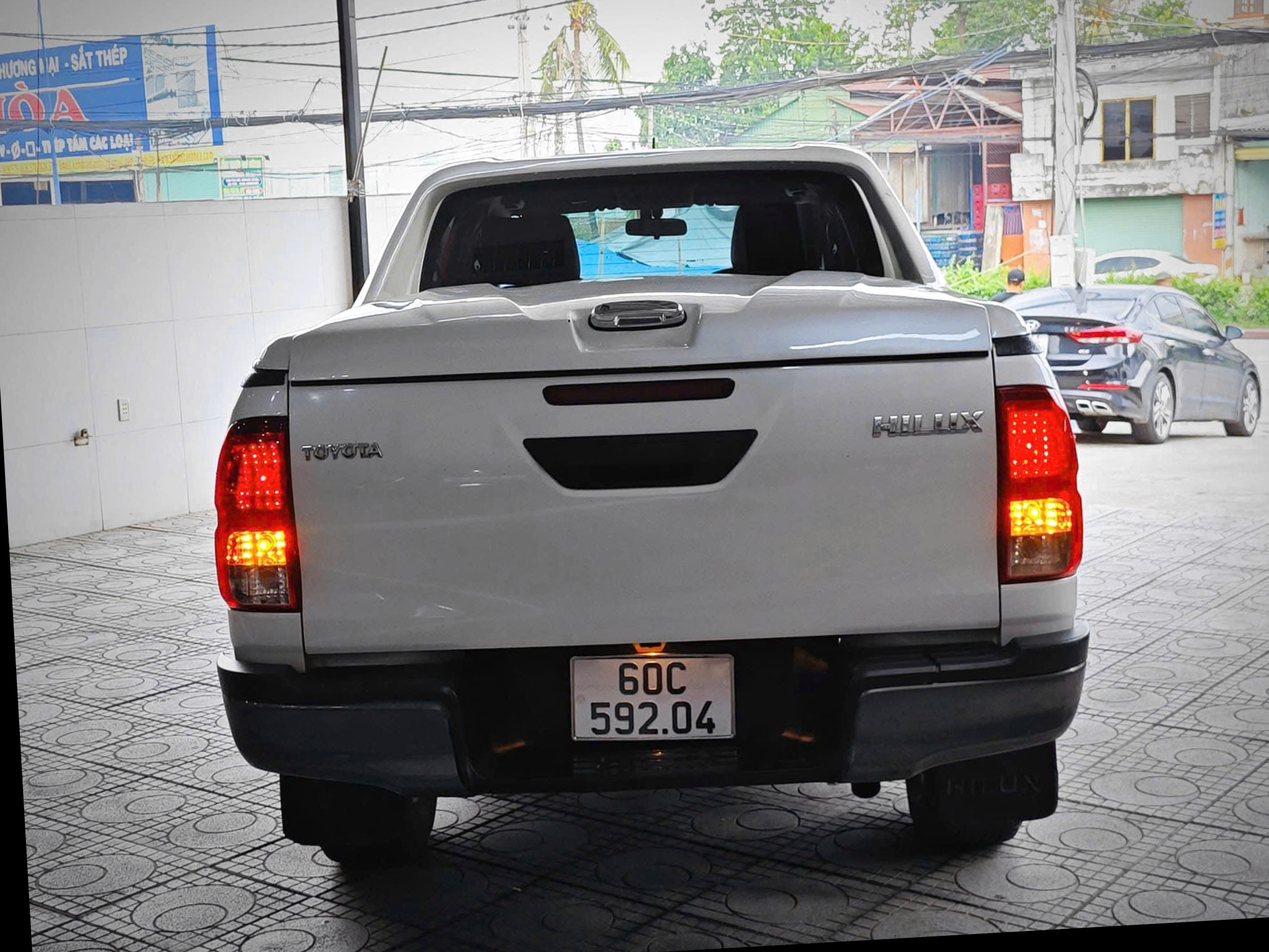Bien-so: (535, 662, 707, 756)
